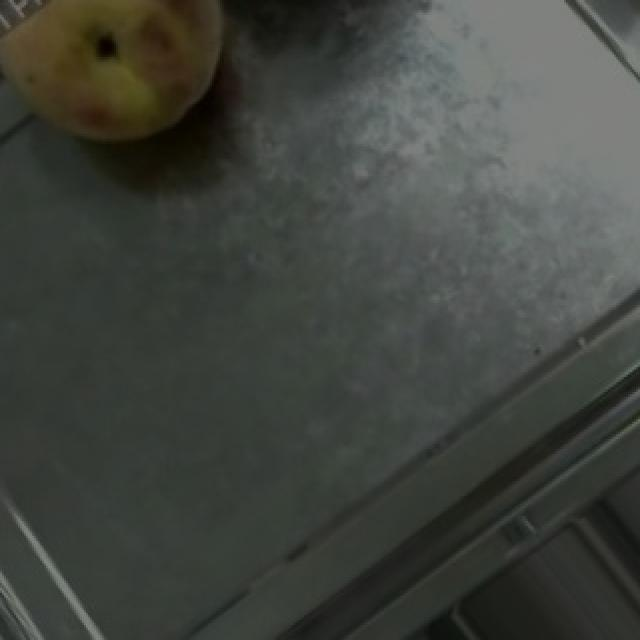Fruit: (0, 0, 256, 186)
